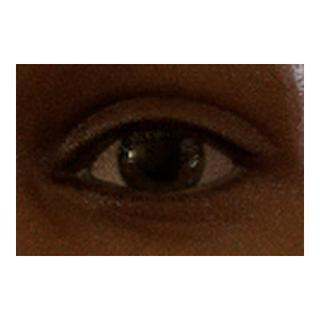pupil: (140, 138, 180, 179)
